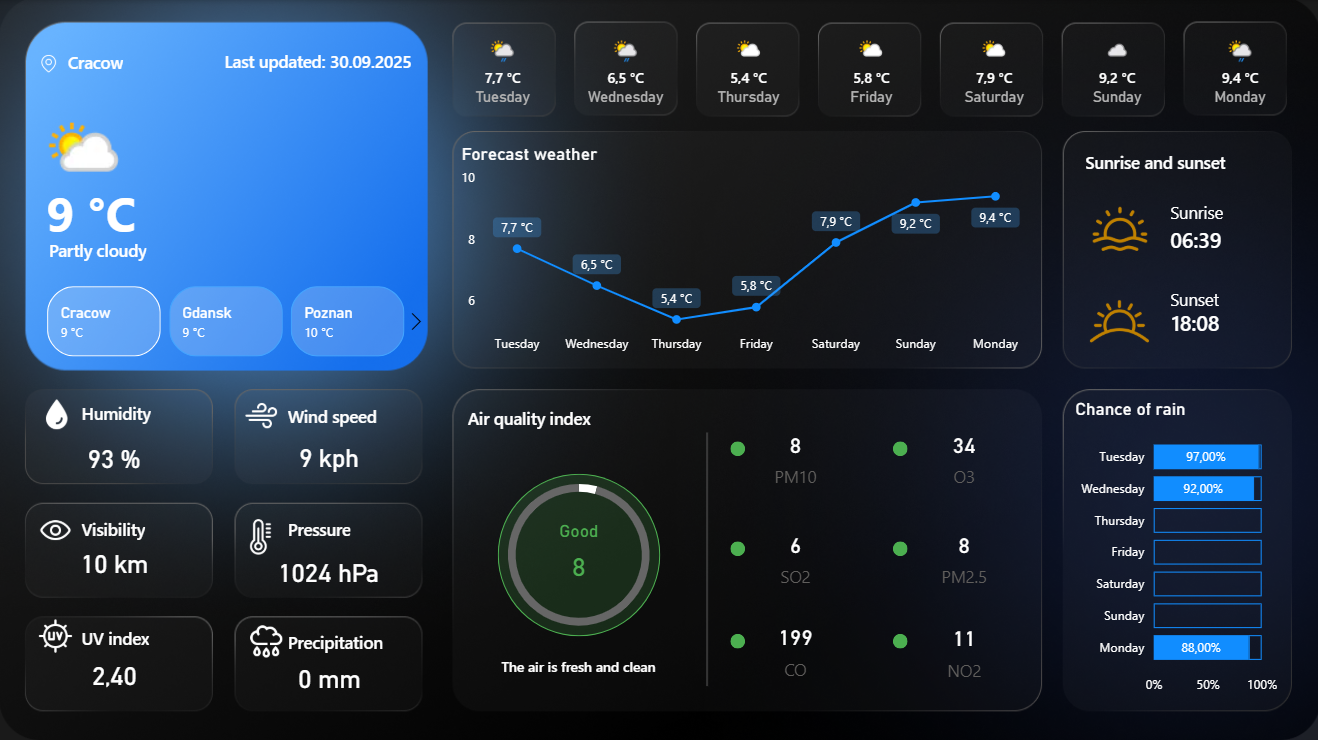

The page's visual inventory and layout, read from the dashboard file:
{"tool":"powerbi","page":{"name":"Strona 1","canvas":[1280,720],"ordinal":0},"visuals":[{"type":"shape","box":[45.7,168.6,127.1,74.3],"z":0},{"type":"shape","box":[48.4,225.2,271.2,33.9],"z":1000},{"type":"shape","box":[66.6,42.4,85.9,33.9],"z":2000},{"type":"shape","box":[213,42.4,186.4,32.7],"z":3000},{"type":"image","box":[10.9,48.4,75.1,26.6],"z":4000},{"type":"cardVisual","fields":{"Data":["Min(Current.current.condition.icon)"]},"box":[21.8,90.8,111.4,113.8],"z":5000},{"type":"image","box":[32.9,381.4,47.1,40],"z":6000},{"type":"image","box":[231.4,381.4,45.7,42.9],"z":7000},{"type":"image","box":[32.9,488.6,44.3,48.6],"z":8000},{"type":"image","box":[231.4,495.7,44.3,47.1],"z":9000},{"type":"image","box":[32.9,592.9,44.3,45.7],"z":10000},{"type":"image","box":[234.3,595.7,48.6,51.4],"z":11000},{"type":"shape","box":[80,384.3,124.3,32.9],"z":12000},{"type":"shape","box":[280,385.7,124.3,32.9],"z":13000},{"type":"shape","box":[80,495.7,124.3,32.9],"z":14000},{"type":"shape","box":[280,495.7,124.3,32.9],"z":15000},{"type":"shape","box":[80,601.4,124.3,32.9],"z":16000},{"type":"shape","box":[280,605.7,124.3,32.9],"z":17000},{"type":"card","fields":{"Values":["_Measures.Humidity"]},"box":[80,418.6,62.9,51.4],"z":18000},{"type":"card","fields":{"Values":["_Measures.Wind_speed"]},"box":[264.3,417.1,111.4,51.4],"z":19000},{"type":"card","fields":{"Values":["_Measures.Visibility"]},"box":[68.6,520,85.7,51.4],"z":20000},{"type":"card","fields":{"Values":["_Measures.Pressure"]},"box":[258.6,528.6,120,51.4],"z":21000},{"type":"card","fields":{"Values":["Sum(Current.current.uv)"]},"box":[68.6,628.6,85.7,51.4],"z":22000},{"type":"card","fields":{"Values":["_Measures.Precipitation"]},"box":[277.1,631.4,85.7,51.4],"z":23000},{"type":"advancedSlicerVisual","fields":{"Values":["Locations.location.name"]},"box":[21.8,272.4,397,78.7],"z":24000},{"type":"advancedSlicerVisual","fields":{"Values":["Forecast_day.day_name"]},"box":[427.3,29.1,835.2,92],"z":25000},{"type":"lineChart","title":"Forecast weather","fields":{"Category":["Forecast_day.day_name"],"Y":["Sum(Forecast_day.forecast.forecastday.day.avgtemp_c)"]},"box":[443.2,138.8,558,212.3],"z":26000},{"type":"shape","box":[1052.5,140.7,170.9,33.4],"z":27000},{"type":"shape","box":[1134.2,194.9,127.1,72.6],"z":28000},{"type":"shape","box":[1135.4,274.8,127.1,73.8],"z":29000},{"type":"shape","box":[1133.7,189,125.5,33.4],"z":30000},{"type":"shape","box":[1133.7,273.1,125.5,33.4],"z":31000},{"type":"image","box":[1053.9,188.8,62.7,65.4],"z":32000},{"type":"image","box":[1041.8,267.5,85.4,86.8],"z":33000},{"type":"hundredPercentStackedBarChart","title":"Chance of rain","fields":{"Y":["Sum(Forecast_day.forecast.forecastday.day.daily_chance_of_rain)","Forecast_day.Left_value_rain"],"Category":["Forecast_day.day_name"]},"box":[1037.3,385.8,205.6,295],"z":34000},{"type":"shape","box":[453.9,388.5,170.9,33.4],"z":35000},{"type":"card","fields":{"Values":["Sum(Current.current.air_quality.pm10)"]},"box":[714.8,406.5,112.1,70.8],"z":36000},{"type":"card","fields":{"Values":["Sum(Current.current.air_quality.pm2_5)"]},"box":[879,504,112.1,70.8],"z":37000},{"type":"card","fields":{"Values":["Sum(Current.current.air_quality.so2)"]},"box":[714.8,504,112.1,70.8],"z":38000},{"type":"card","fields":{"Values":["Sum(Current.current.air_quality.o3)"]},"box":[879,406.5,112.1,70.8],"z":39000},{"type":"card","fields":{"Values":["Sum(Current.current.air_quality.co)"]},"box":[714.8,593.4,112.1,70.8],"z":40000},{"type":"card","fields":{"Values":["Sum(Current.current.air_quality.no2)"]},"box":[879,594.8,112.1,70.8],"z":41000},{"type":"shape","box":[707.7,427.5,14.5,14.5],"z":42000},{"type":"shape","box":[707.7,524.4,14.5,14.5],"z":43000},{"type":"shape","box":[707.7,614,14.5,14.5],"z":44000},{"type":"shape","box":[483,458.8,157.4,157.4],"z":45000},{"type":"shape","box":[865,427.5,14.5,14.5],"z":46000},{"type":"shape","box":[865,524.4,14.5,14.5],"z":47000},{"type":"shape","box":[865,614,14.5,14.5],"z":48000},{"type":"shape","box":[600.4,418.8,170.7,245.7],"z":49000},{"type":"card","fields":{"Values":["Sum(Current.current.air_quality.pm10)"]},"box":[506,503.6,111.4,71.4],"z":50000},{"type":"donutChart","fields":{"Y":["Sum(Current.current.air_quality.pm10)","_Measure.Left_value_PM10"]},"box":[427.3,446.7,268.7,181.6],"z":51000},{"type":"shape","box":[464.8,628.2,192.5,33.9],"z":52000}]}

Visuals, with their boxes in screenshot pixels (x1, y1, x2, y2), scaled from the page's 1280x720 canvas onto the 1318x740 screenshot:
shape: detection(47, 173, 178, 250)
shape: detection(50, 231, 329, 266)
shape: detection(69, 44, 157, 78)
shape: detection(219, 44, 411, 77)
image: detection(11, 50, 89, 77)
cardVisual - Min(Current.current.condition.icon): detection(22, 93, 137, 210)
image: detection(34, 392, 82, 433)
image: detection(238, 392, 285, 436)
image: detection(34, 502, 79, 552)
image: detection(238, 509, 284, 558)
image: detection(34, 609, 79, 656)
image: detection(241, 612, 291, 665)
shape: detection(82, 395, 210, 429)
shape: detection(288, 396, 416, 430)
shape: detection(82, 509, 210, 543)
shape: detection(288, 509, 416, 543)
shape: detection(82, 618, 210, 652)
shape: detection(288, 623, 416, 656)
card - _Measures.Humidity: detection(82, 430, 147, 483)
card - _Measures.Wind_speed: detection(272, 429, 387, 482)
card - _Measures.Visibility: detection(71, 534, 159, 587)
card - _Measures.Pressure: detection(266, 543, 390, 596)
card - Sum(Current.current.uv): detection(71, 646, 159, 699)
card - _Measures.Precipitation: detection(285, 649, 374, 702)
advancedSlicerVisual - Locations.location.name: detection(22, 280, 431, 361)
advancedSlicerVisual - Forecast_day.day_name: detection(440, 30, 1300, 124)
"Forecast weather" lineChart: detection(456, 143, 1031, 361)
shape: detection(1084, 145, 1260, 179)
shape: detection(1168, 200, 1299, 275)
shape: detection(1169, 282, 1300, 358)
shape: detection(1167, 194, 1297, 229)
shape: detection(1167, 281, 1297, 315)
image: detection(1085, 194, 1150, 261)
image: detection(1073, 275, 1161, 364)
"Chance of rain" hundredPercentStackedBarChart: detection(1068, 397, 1280, 700)
shape: detection(467, 399, 643, 434)
card - Sum(Current.current.air_quality.pm10): detection(736, 418, 851, 491)
card - Sum(Current.current.air_quality.pm2_5): detection(905, 518, 1021, 591)
card - Sum(Current.current.air_quality.so2): detection(736, 518, 851, 591)
card - Sum(Current.current.air_quality.o3): detection(905, 418, 1021, 491)
card - Sum(Current.current.air_quality.co): detection(736, 610, 851, 683)
card - Sum(Current.current.air_quality.no2): detection(905, 611, 1021, 684)
shape: detection(729, 439, 744, 454)
shape: detection(729, 539, 744, 554)
shape: detection(729, 631, 744, 646)
shape: detection(497, 472, 659, 633)
shape: detection(891, 439, 906, 454)
shape: detection(891, 539, 906, 554)
shape: detection(891, 631, 906, 646)
shape: detection(618, 430, 794, 683)
card - Sum(Current.current.air_quality.pm10): detection(521, 518, 636, 591)
donutChart - Sum(Current.current.air_quality.pm10) x _Measure.Left_value_PM10: detection(440, 459, 717, 646)
shape: detection(479, 646, 677, 680)
